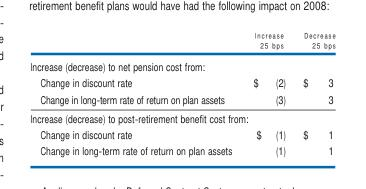table: (29, 29, 334, 157)
table column: (29, 29, 241, 157), (241, 29, 293, 157), (293, 29, 334, 157)
table column header: (29, 29, 334, 53)
table projected row header: (29, 53, 334, 73), (29, 107, 334, 125)
table row: (29, 29, 334, 53), (29, 53, 334, 73), (29, 107, 334, 125), (29, 73, 334, 90), (29, 90, 334, 107), (29, 125, 334, 141), (29, 141, 334, 157)
